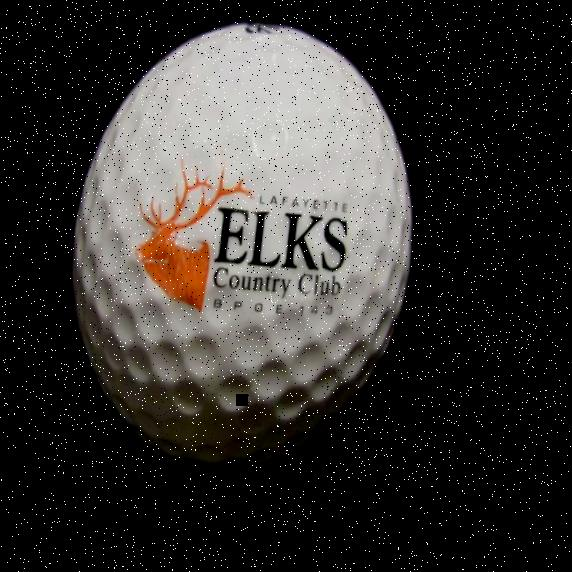GolfBall: (20, 0, 468, 506)
